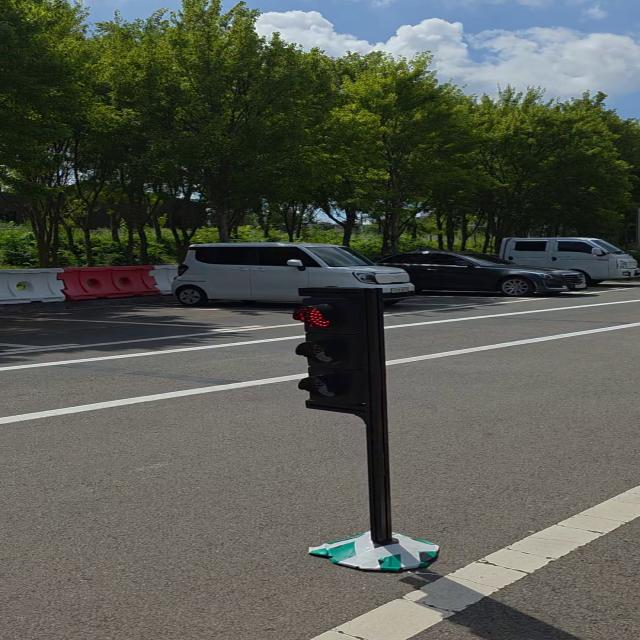red: (290, 291, 360, 417)
